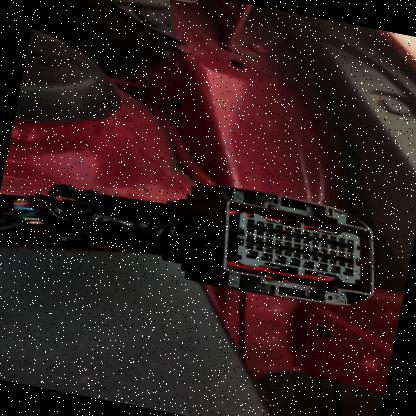Connector: (169, 174, 400, 322)
